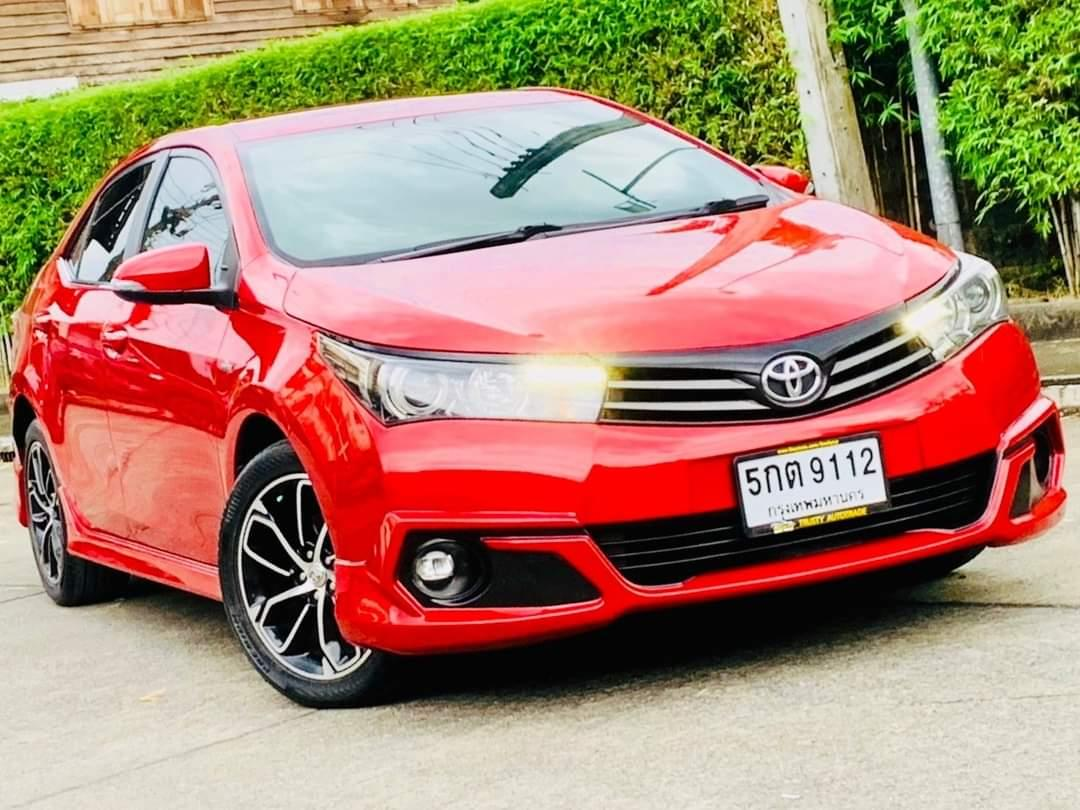license-plate: (723, 429, 891, 539)
